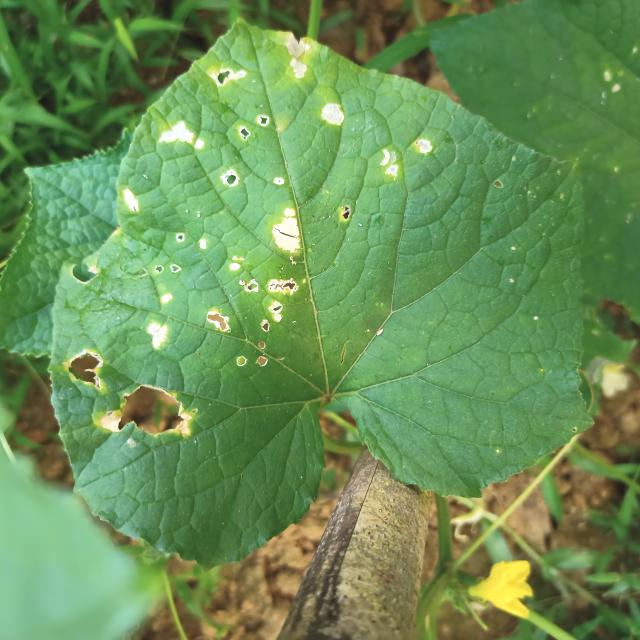disease_cucumber: (204, 275, 307, 372), (93, 380, 202, 451), (264, 201, 308, 267), (371, 135, 437, 179), (143, 288, 184, 353), (62, 345, 110, 390), (156, 116, 207, 154), (282, 32, 314, 82), (234, 112, 273, 144), (210, 63, 249, 93), (314, 98, 348, 132), (118, 182, 142, 217), (220, 166, 245, 188), (227, 252, 248, 270)
